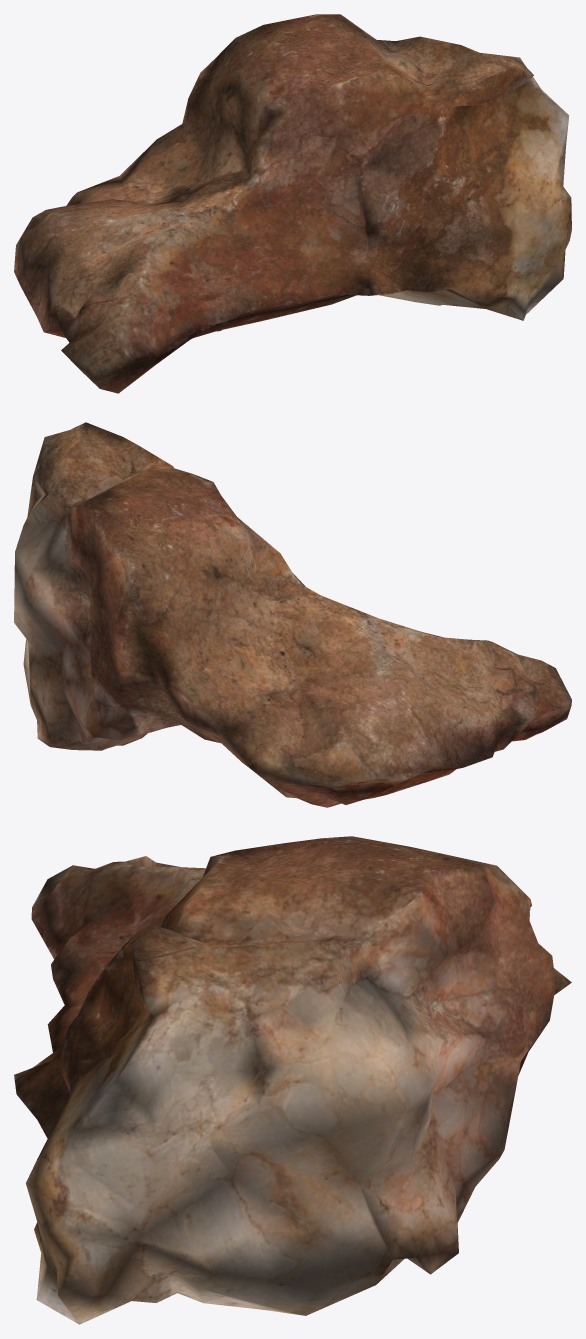
The model's file is stone_01.glb.
The picture shows the model from 3 angles, top to bottom: view 1: azimuth 30°, elevation 25°; view 2: azimuth 150°, elevation 25°; view 3: azimuth 270°, elevation 25°; orthographic projection. The views are drawn at different scales.
Visible parts, largest first — view 1: stone_01; view 2: stone_01; view 3: stone_01.
Part boxes in pixels (bbox=[...]): stone_01: bbox=[14, 14, 571, 393]; stone_01: bbox=[14, 422, 571, 807]; stone_01: bbox=[14, 836, 571, 1324].
Bounding box in the file's own units: 0.1462 × 0.0705 × 0.089.
Materials: 1 (1 with a texture image).
